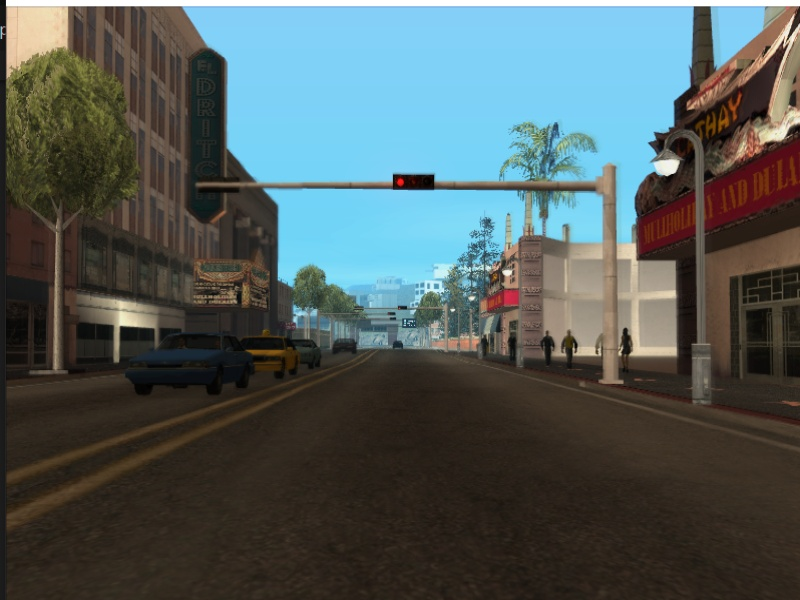person: (619, 324, 637, 373), (560, 327, 579, 373), (538, 328, 554, 365), (506, 331, 516, 362)
pole: (681, 133, 726, 411), (592, 165, 631, 391), (514, 254, 529, 371), (474, 292, 489, 364), (440, 304, 450, 355)
tree: (28, 184, 93, 388)
vehicle: (122, 324, 259, 408), (243, 334, 300, 382), (331, 337, 359, 356), (392, 340, 405, 352)
